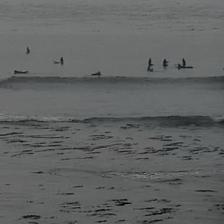surfer: (178, 64, 193, 70), (14, 69, 28, 74), (91, 71, 102, 76), (162, 58, 168, 66), (59, 56, 64, 64), (147, 63, 151, 71), (26, 46, 30, 54), (182, 58, 186, 65), (148, 58, 152, 64)
